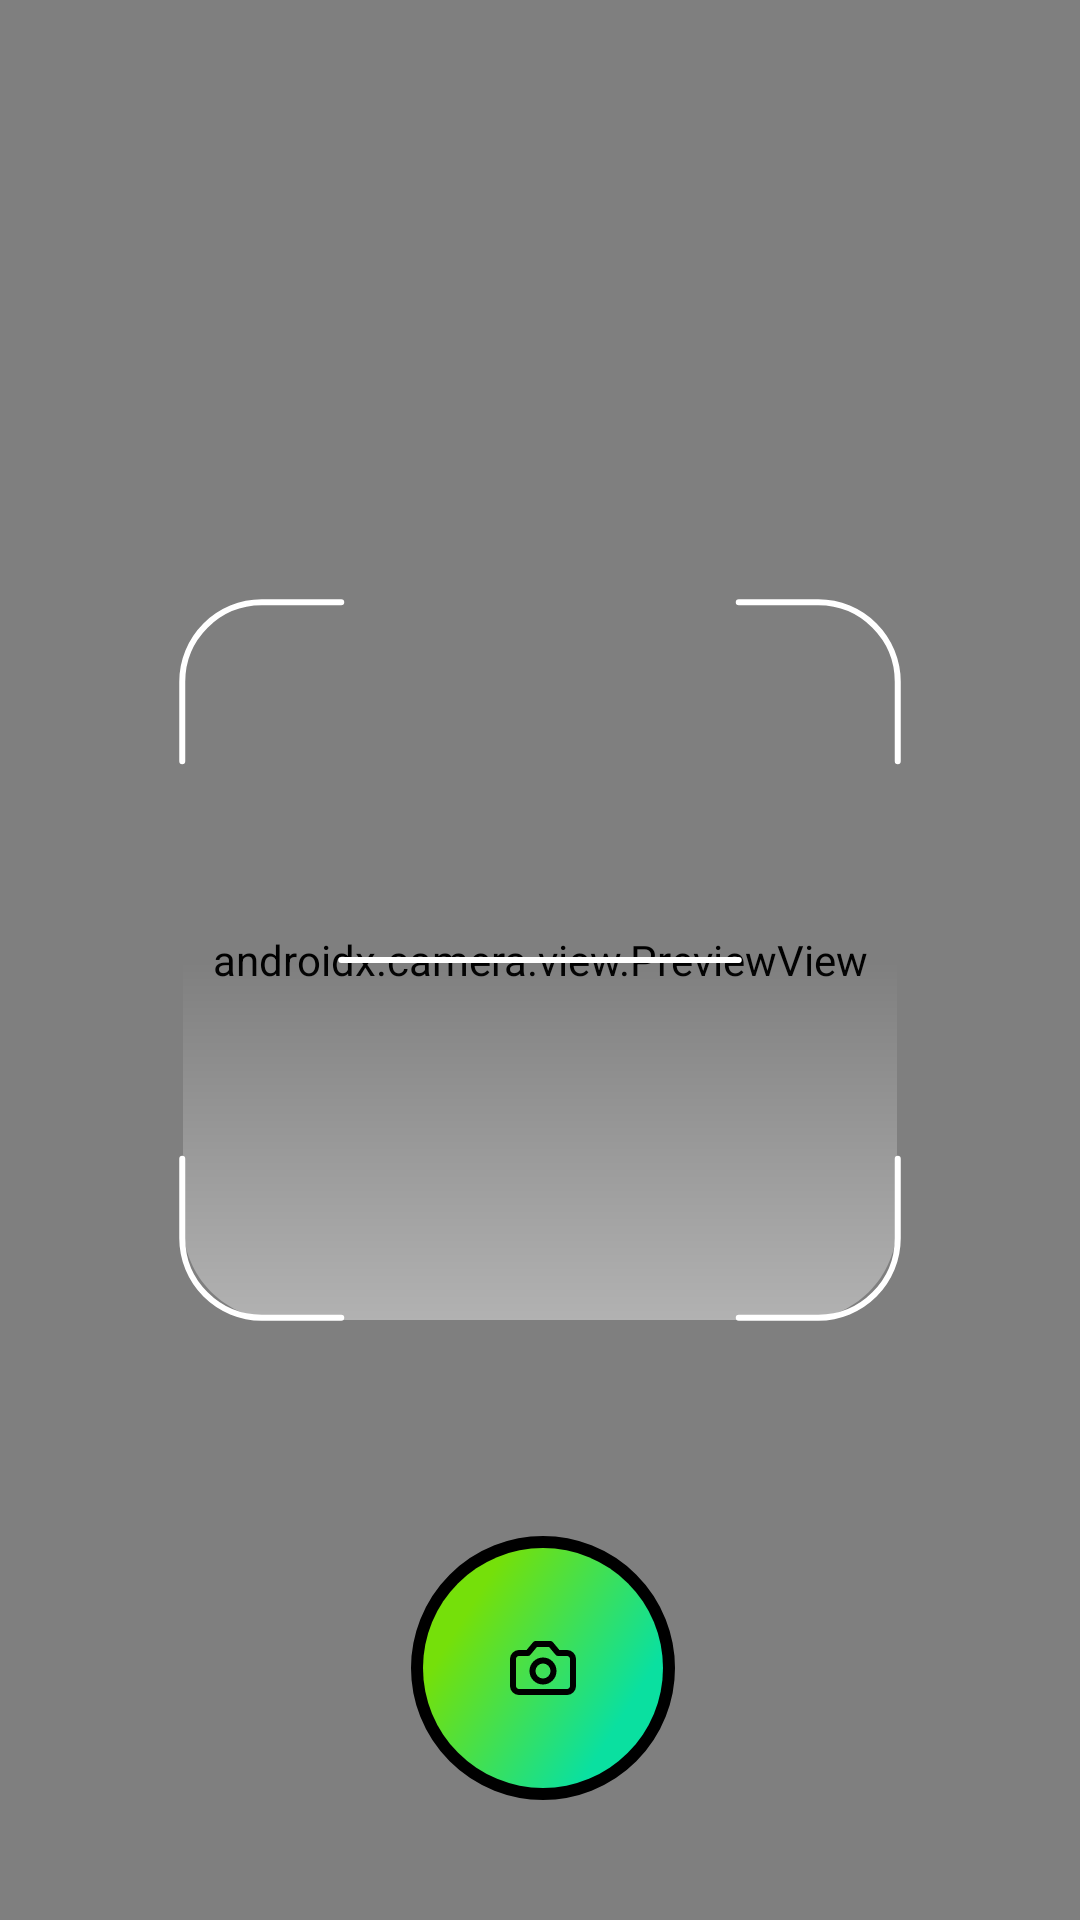

Icons on this 1080 × 1920 Android screen, each with the point to tap as point (x, y):
capture photo: point (543, 1668)
